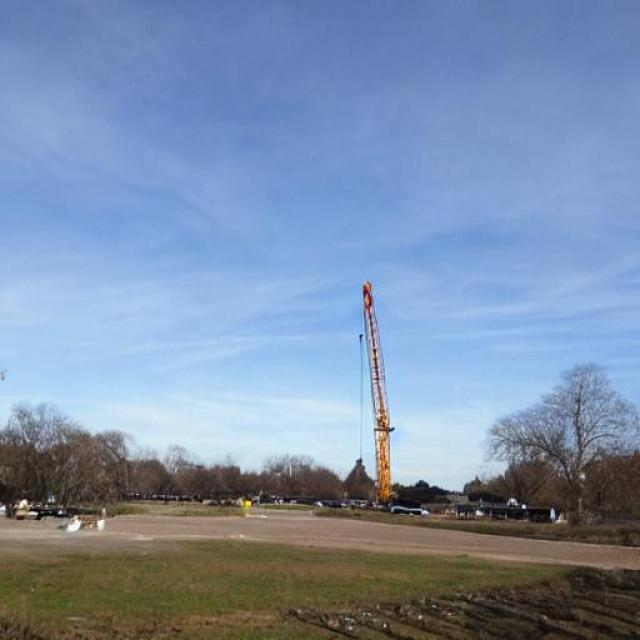crane: (169, 31, 561, 524)
